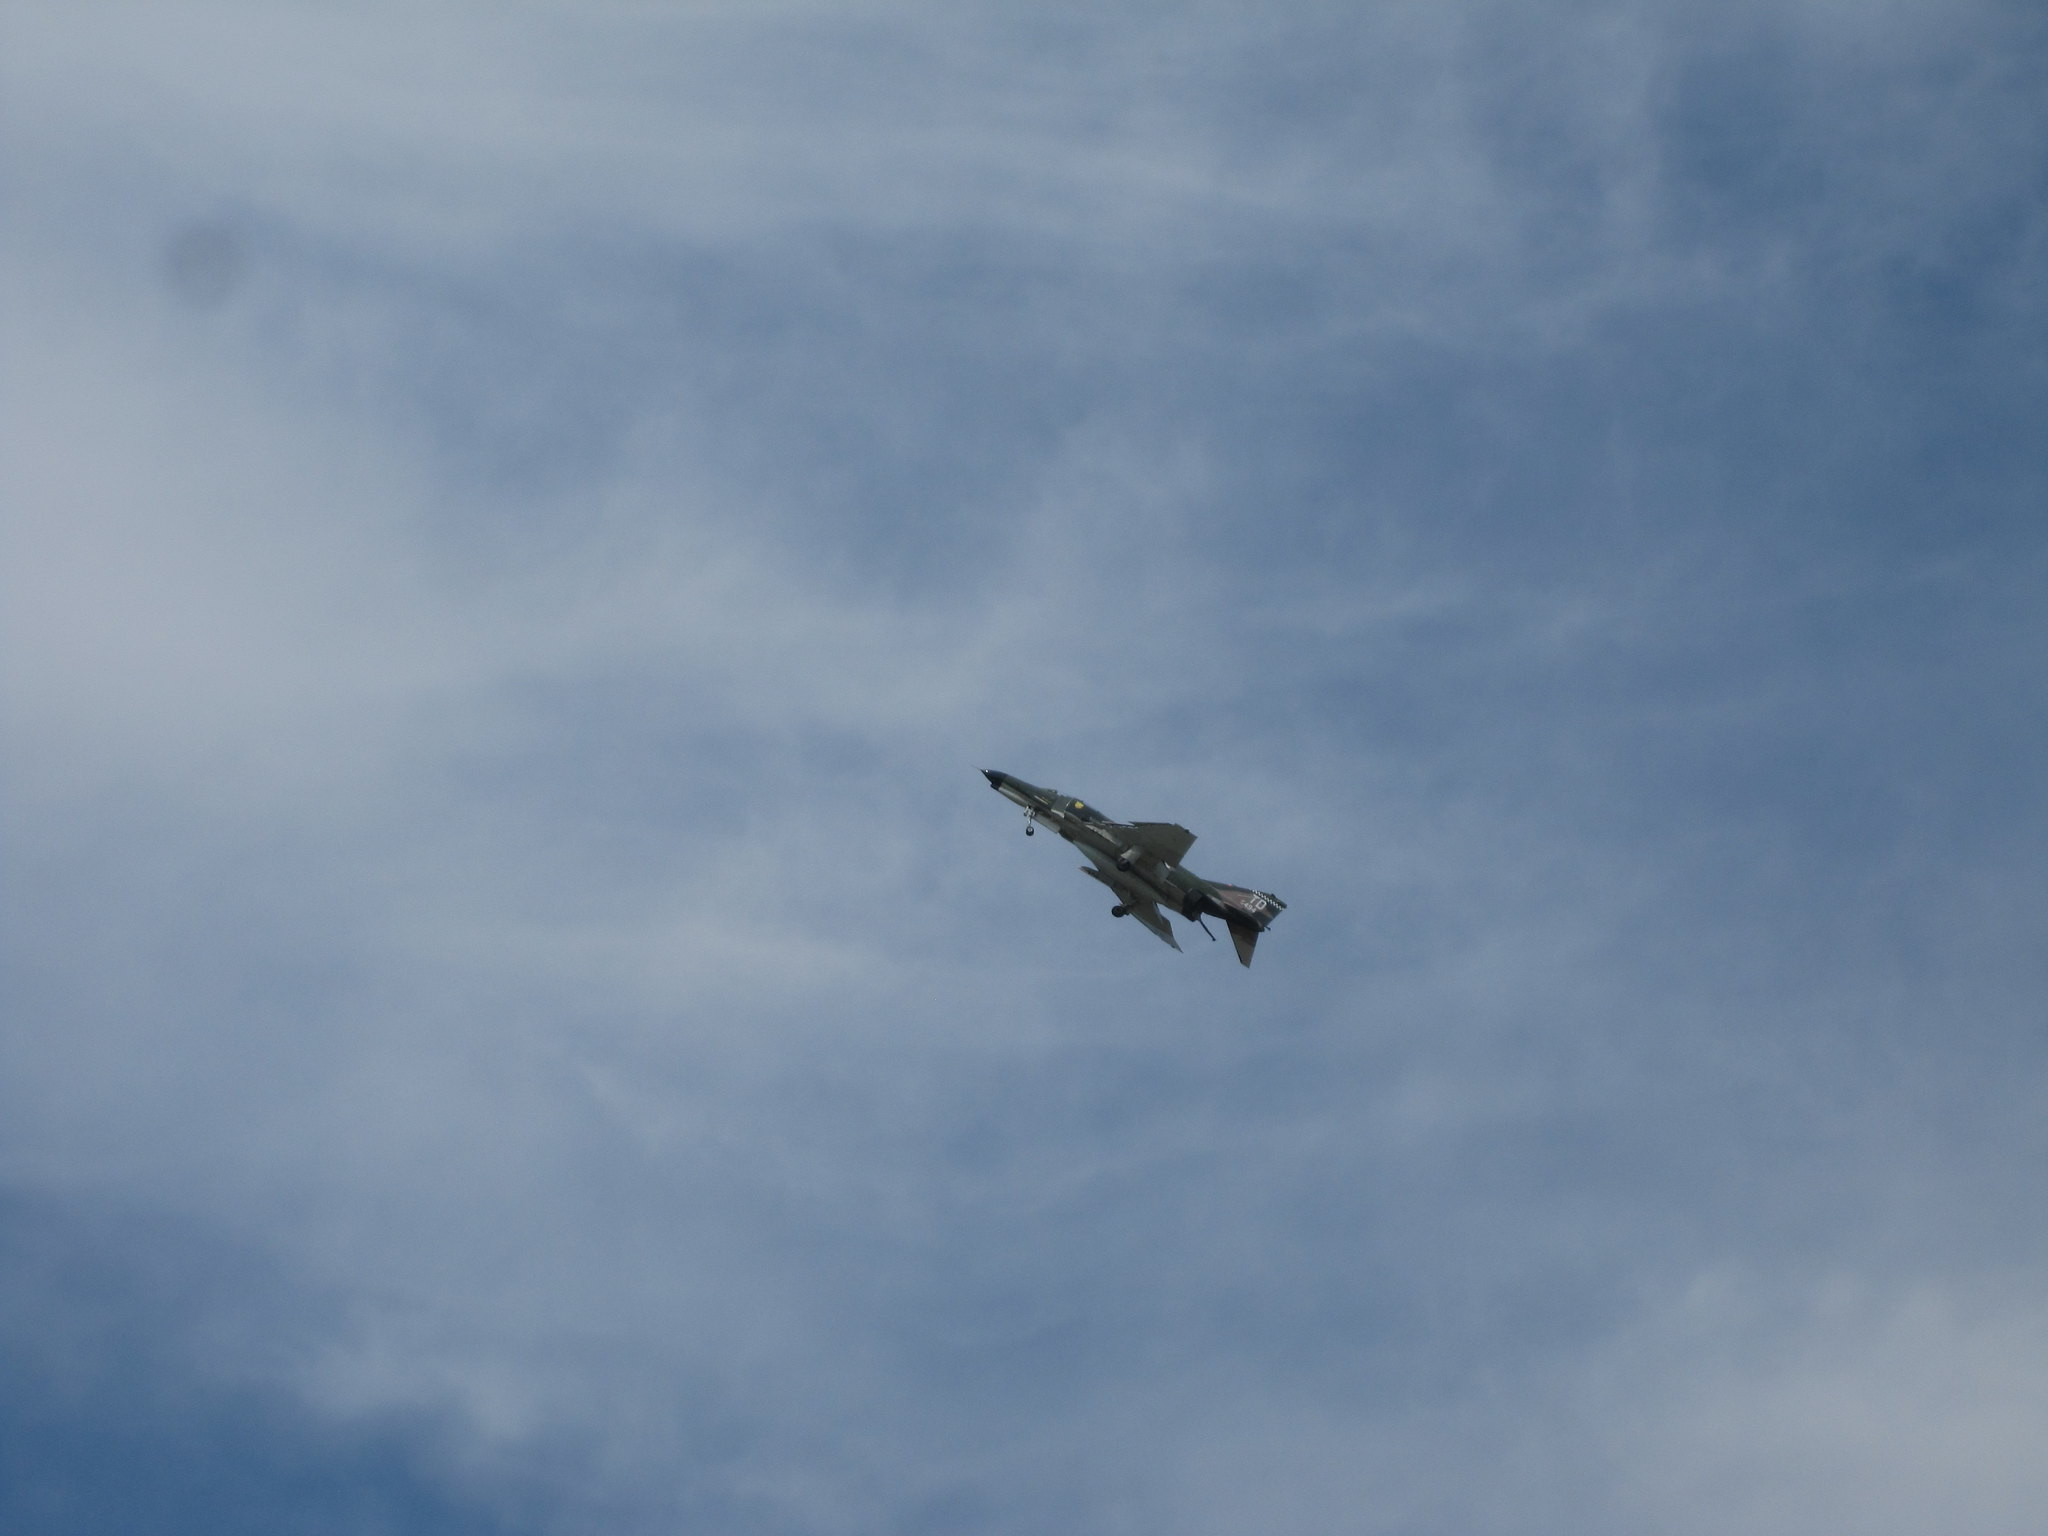F4: (971, 765, 1288, 970)
